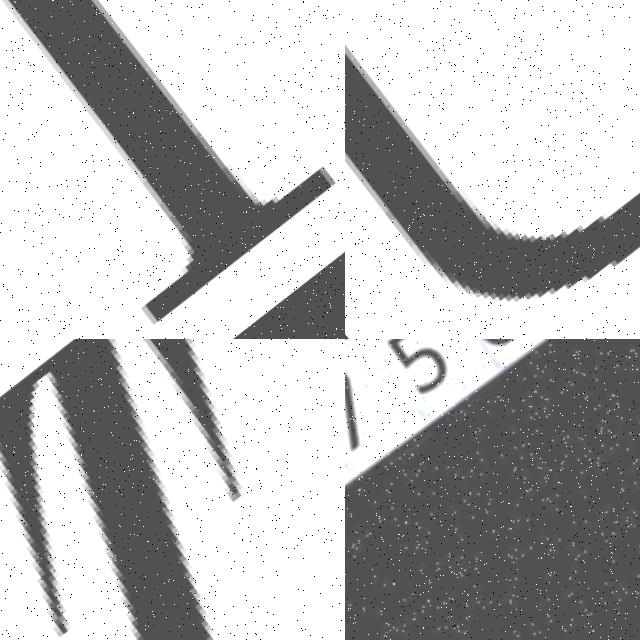5: (359, 339, 455, 420)
7: (345, 359, 385, 476)
8: (431, 339, 533, 378)
T: (0, 0, 345, 339), (0, 339, 345, 640)
U: (345, 0, 640, 339)
